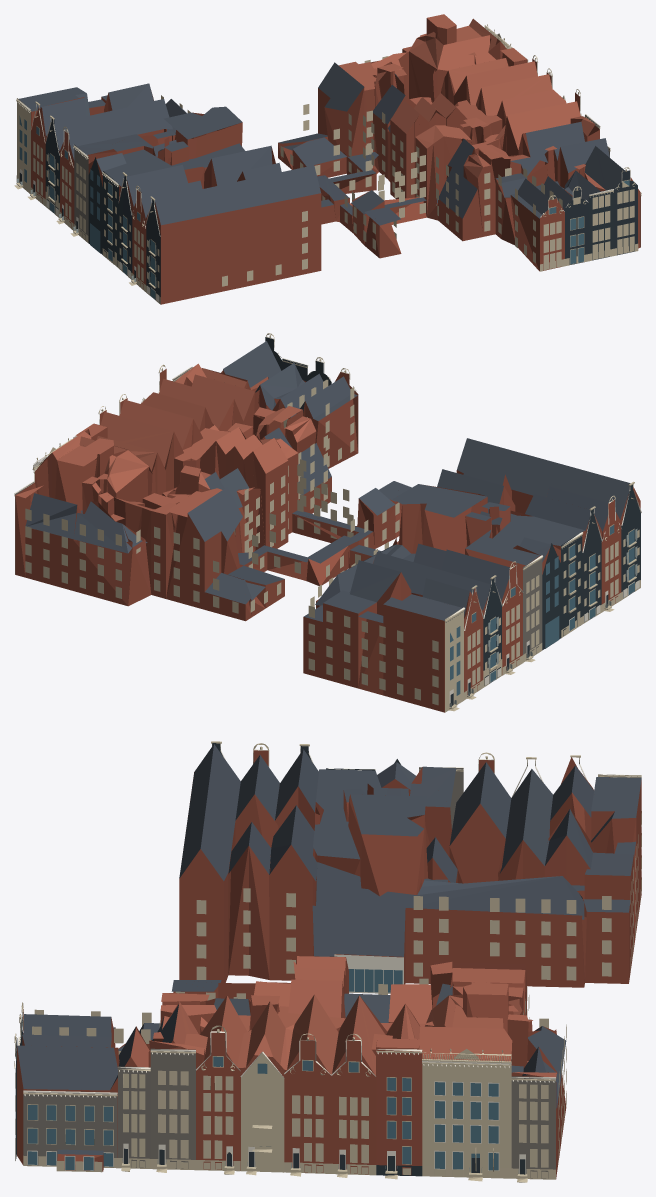
File: pulitzer-amsterdam.lod1.glb
3 views of the same model, one above another, from view 1: azimuth 30°, elevation 25°; view 2: azimuth 150°, elevation 25°; view 3: azimuth 270°, elevation 25° (orthographic). The views are drawn at different scales.
Parts seen in each view (by area): view 1: pulitzer-amsterdam; view 2: pulitzer-amsterdam; view 3: pulitzer-amsterdam.
Boxes of the visible parts, x1,y1,x2,y2 form: pulitzer-amsterdam: [14, 14, 641, 304]; pulitzer-amsterdam: [14, 333, 641, 712]; pulitzer-amsterdam: [14, 741, 641, 1182].
Bounding box in the file's own units: 90.62 × 21.69 × 79.5.
